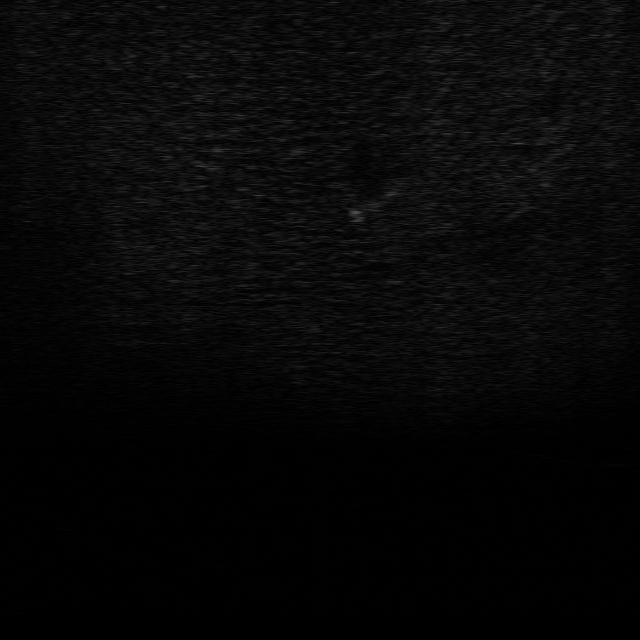plane: (340, 184, 402, 226)
